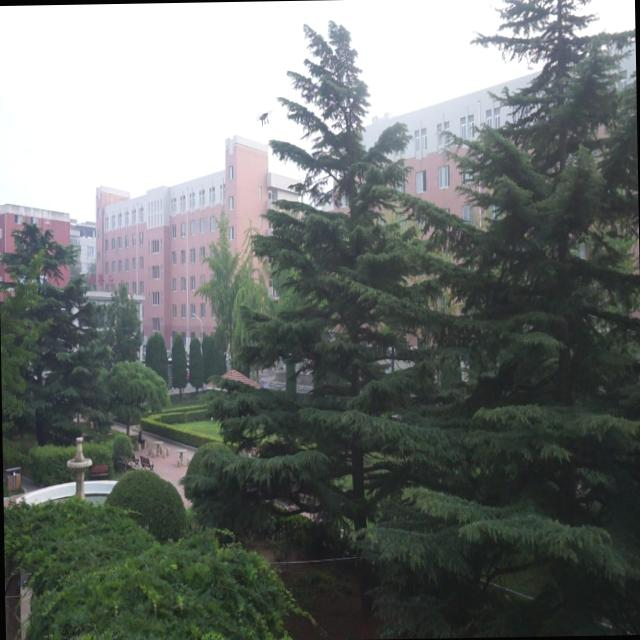drone: (252, 106, 274, 130)
